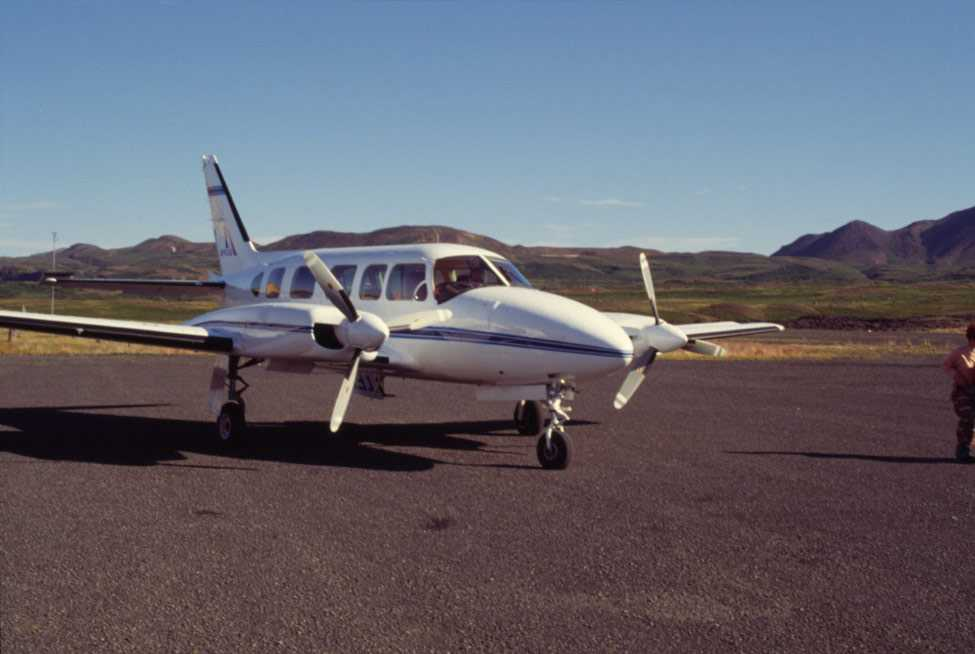Aeronef_commercial: (1, 148, 829, 480)
